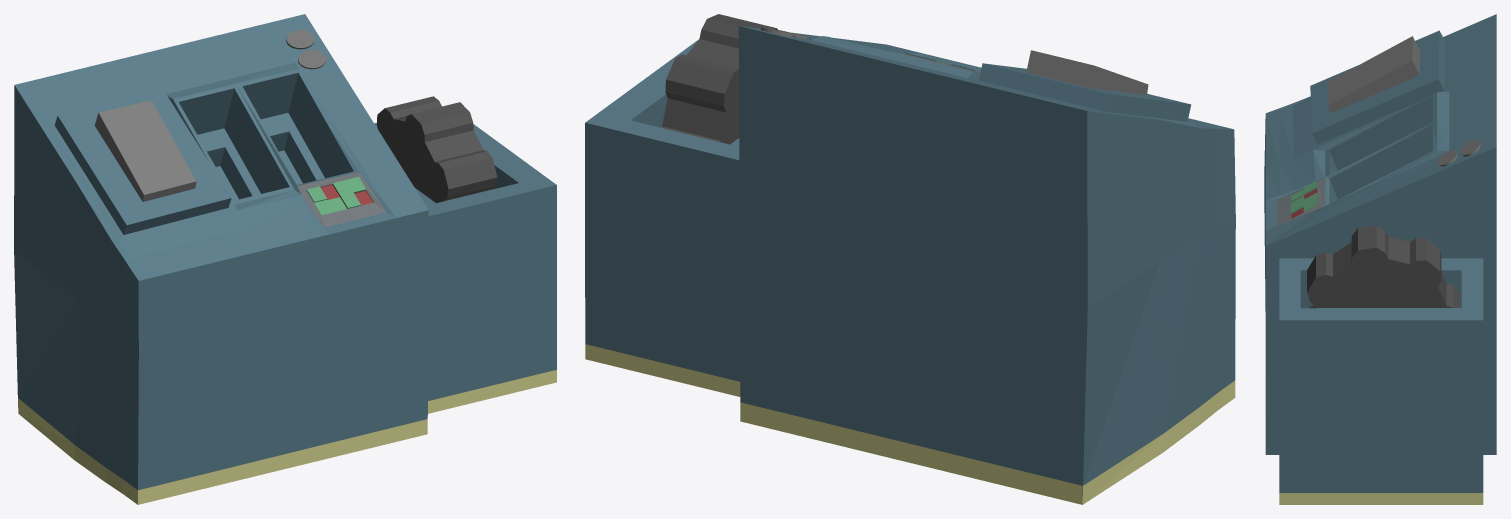
The model's file is 1 Neutral no_arms.fbx.
3 renders of one model, left to right at view 1: azimuth 30°, elevation 25°; view 2: azimuth 150°, elevation 25°; view 3: azimuth 270°, elevation 25°, orthographic. The views are drawn at different scales.
Parts seen in each view (by area): view 1: Neutral_no_ARM; view 2: Neutral_no_ARM; view 3: Neutral_no_ARM.
Boxes of the visible parts, x1,y1,x2,y2 form: Neutral_no_ARM: (14, 14, 556, 504); Neutral_no_ARM: (585, 14, 1235, 504); Neutral_no_ARM: (1264, 14, 1496, 504).
Bounding box in the file's own units: 2 × 1.47 × 1.01.
